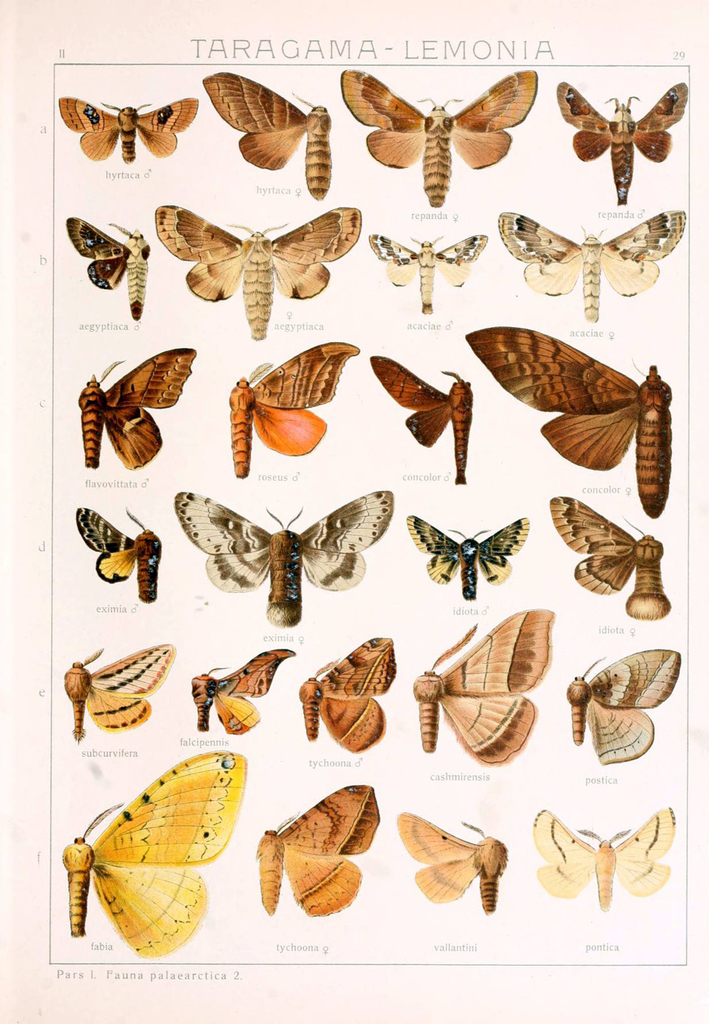Butterfly: (168, 476, 414, 640), (333, 62, 556, 220), (144, 198, 362, 338), (496, 202, 686, 342), (519, 798, 696, 941), (54, 65, 199, 179)
